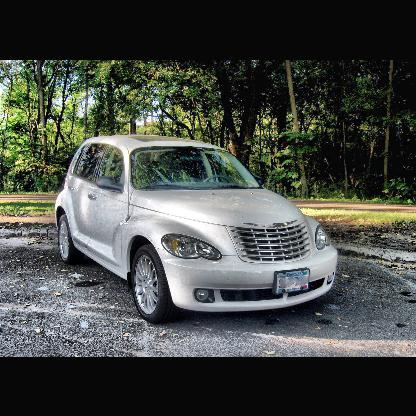Chrysler PT Cruiser Convertible 2008: (55, 134, 339, 324)
